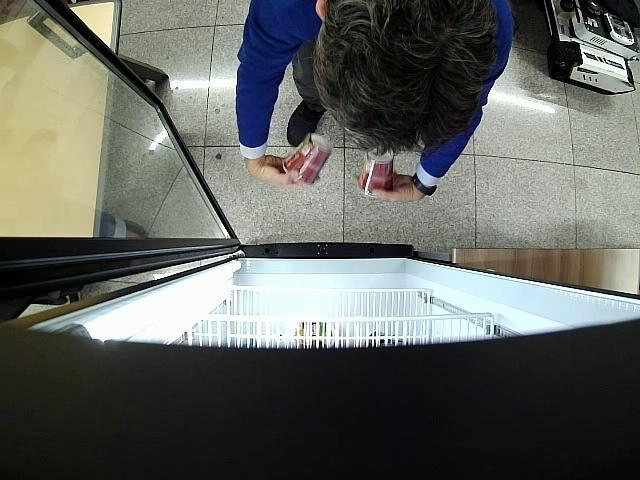06_nuguri_S: (284, 134, 332, 184), (358, 147, 395, 195)
